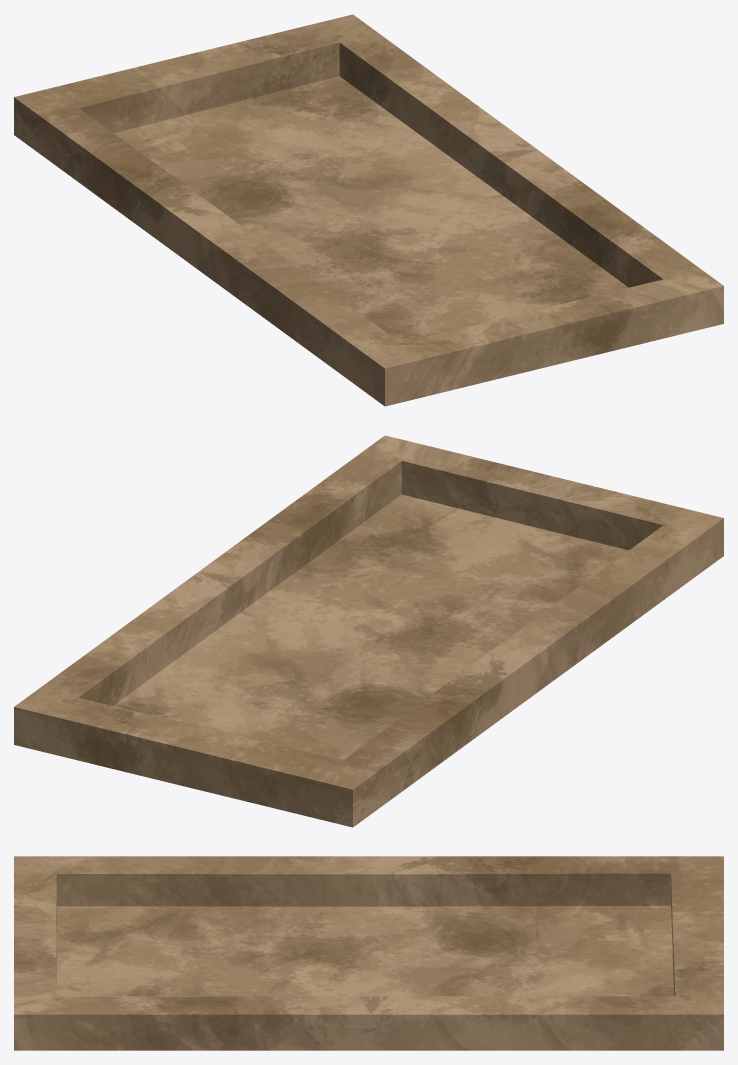
File: card_slot.fbx
3 renders of one model, top to bottom at view 1: azimuth 30°, elevation 25°; view 2: azimuth 150°, elevation 25°; view 3: azimuth 270°, elevation 25°, orthographic. The views are drawn at different scales.
Parts seen in each view (by area): view 1: Box001; view 2: Box001; view 3: Box001.
Boxes of the visible parts, left/top/right/bottom form: Box001: left=14, top=14, right=723, bottom=406; Box001: left=14, top=435, right=723, bottom=827; Box001: left=14, top=856, right=723, bottom=1050.
Bounding box in the file's own units: 7.82 × 0.8365 × 14.83.
